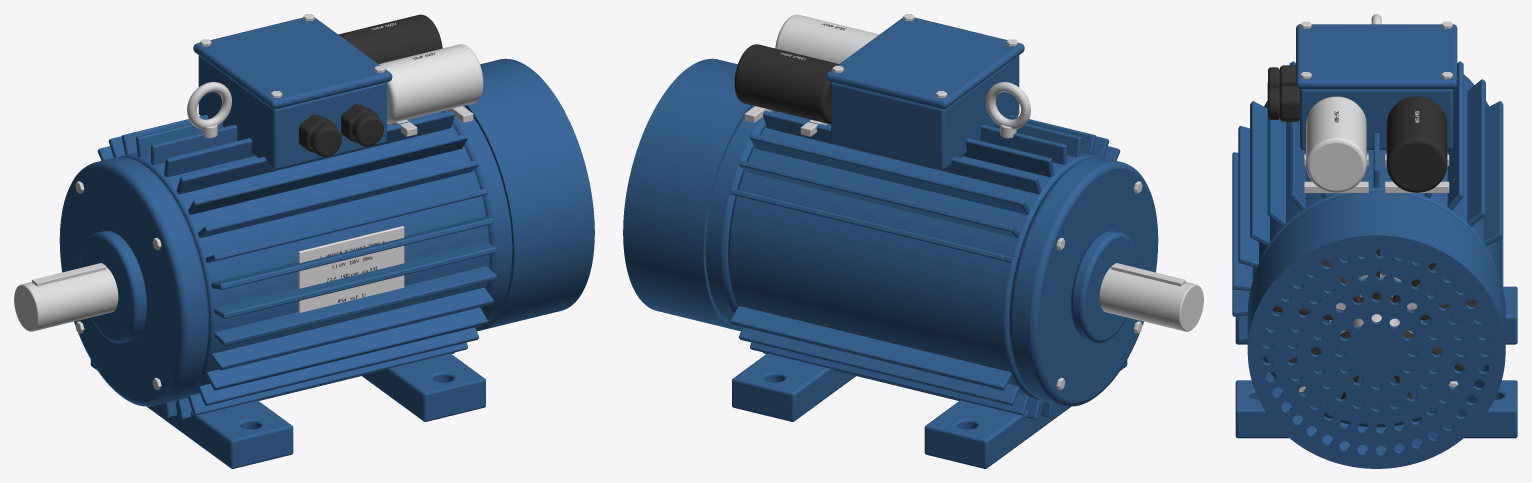
Rendered from motor_1ph.glb.
3 views of the same model, side by side, from view 1: azimuth 30°, elevation 25°; view 2: azimuth 150°, elevation 25°; view 3: azimuth 270°, elevation 25° (orthographic).
Parts seen in each view (by area): view 1: frame, end_shield_de, terminal_box, fan_cover, run_capacitor, shaft, nameplate, end_shield_nde, start_capacitor; view 2: frame, end_shield_de, terminal_box, fan_cover, start_capacitor, shaft, end_shield_nde, run_capacitor; view 3: fan_cover, frame, terminal_box, start_capacitor, run_capacitor, end_shield_nde, fan.
Part boxes in pixels (<box>): frame: <box>90,82,496,468</box>; end_shield_de: <box>59,157,208,406</box>; terminal_box: <box>193,14,392,169</box>; fan_cover: <box>465,58,594,331</box>; run_capacitor: <box>379,44,483,136</box>; shaft: <box>14,263,118,331</box>; nameplate: <box>298,226,404,312</box>; end_shield_nde: <box>442,105,512,327</box>; start_capacitor: <box>338,14,442,63</box>; frame: <box>728,82,1127,468</box>; end_shield_de: <box>1009,157,1158,406</box>; terminal_box: <box>825,14,1024,169</box>; fan_cover: <box>623,58,752,331</box>; start_capacitor: <box>734,44,838,136</box>; shaft: <box>1099,263,1203,331</box>; end_shield_nde: <box>705,105,775,327</box>; run_capacitor: <box>775,14,879,63</box>; fan_cover: <box>1247,196,1505,468</box>; frame: <box>1232,14,1517,438</box>; terminal_box: <box>1268,21,1457,149</box>; start_capacitor: <box>1384,96,1449,193</box>; run_capacitor: <box>1304,96,1368,193</box>; end_shield_nde: <box>1263,191,1490,427</box>; fan: <box>1273,249,1476,399</box>.
Bounding box in the file's own units: 0.288 × 0.181 × 0.1417.
